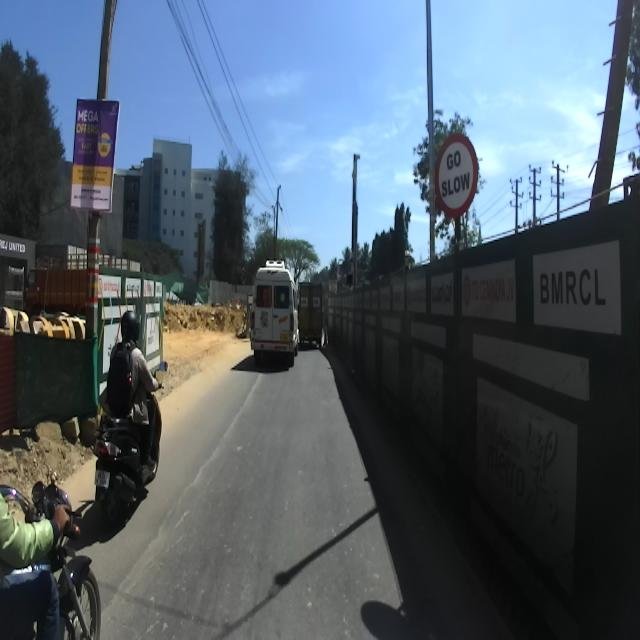bus ahead at: (248, 258, 300, 384)
motorcycle ahead at: (98, 416, 164, 514)
sign board ahead at: (430, 125, 481, 532)
